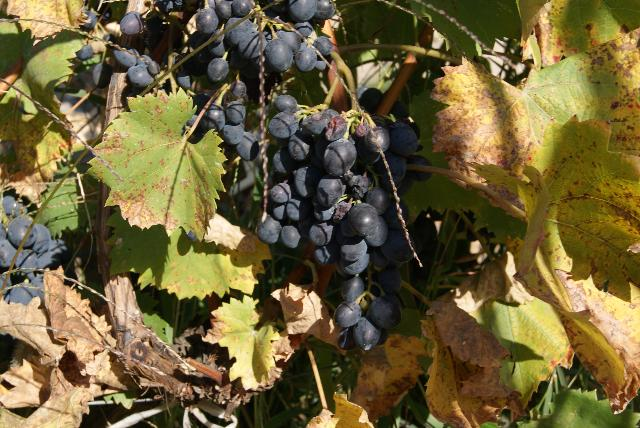grapes: (268, 95, 419, 350)
